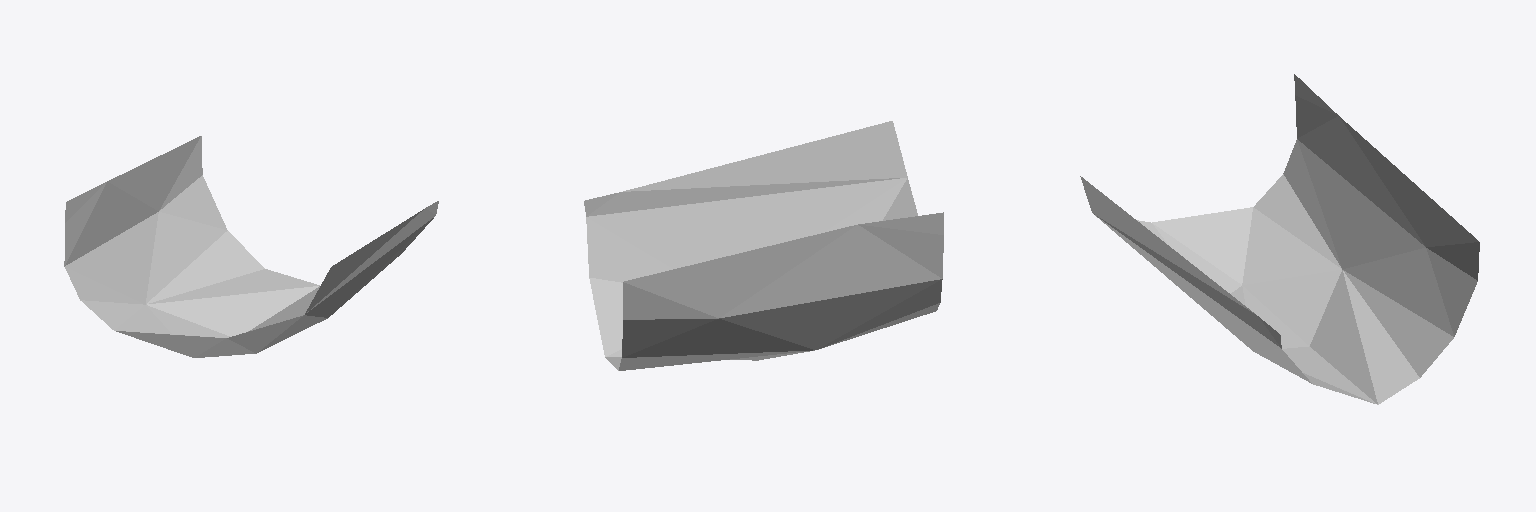
The model's file is HAND_new_46.obj.
3 renders of one model, left to right at view 1: azimuth 30°, elevation 25°; view 2: azimuth 150°, elevation 25°; view 3: azimuth 270°, elevation 25°, orthographic.
Size of the model in its own units: 14.46 by 7.02 by 13.62.